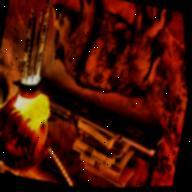boar: (34, 0, 178, 108)
